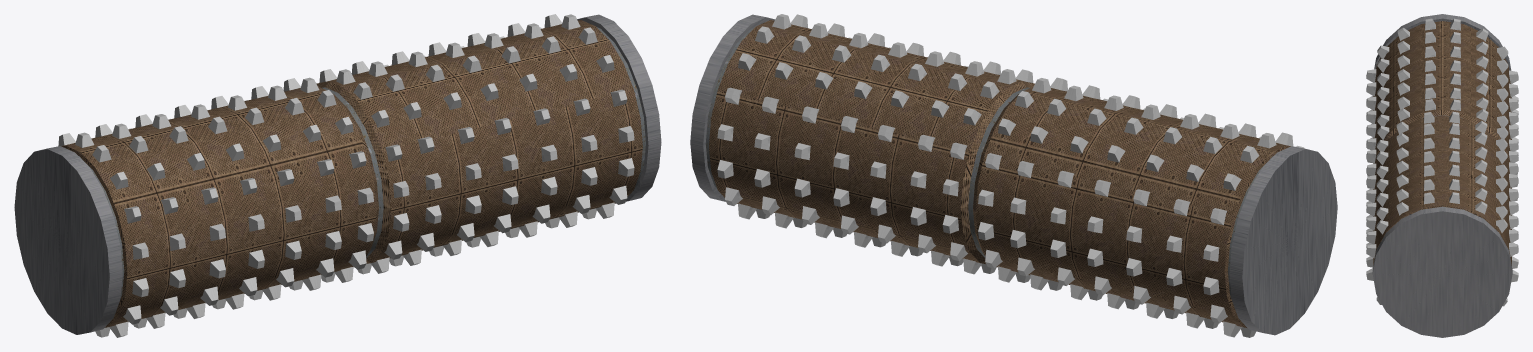
File: TrashGrinder.fbx
The picture shows the model from 3 angles, left to right: view 1: azimuth 30°, elevation 25°; view 2: azimuth 150°, elevation 25°; view 3: azimuth 270°, elevation 25°; orthographic projection. The views are drawn at different scales.
Parts seen in each view (by area): view 1: TrashGrinder; view 2: TrashGrinder; view 3: TrashGrinder.
Boxes of the visible parts, x1,y1,x2,y2 form: TrashGrinder: (14,14,661,337); TrashGrinder: (690,14,1337,337); TrashGrinder: (1366,14,1518,337).
Size of the model in its own units: 251 by 82.34 by 82.04.
4 materials, 4 textured.
